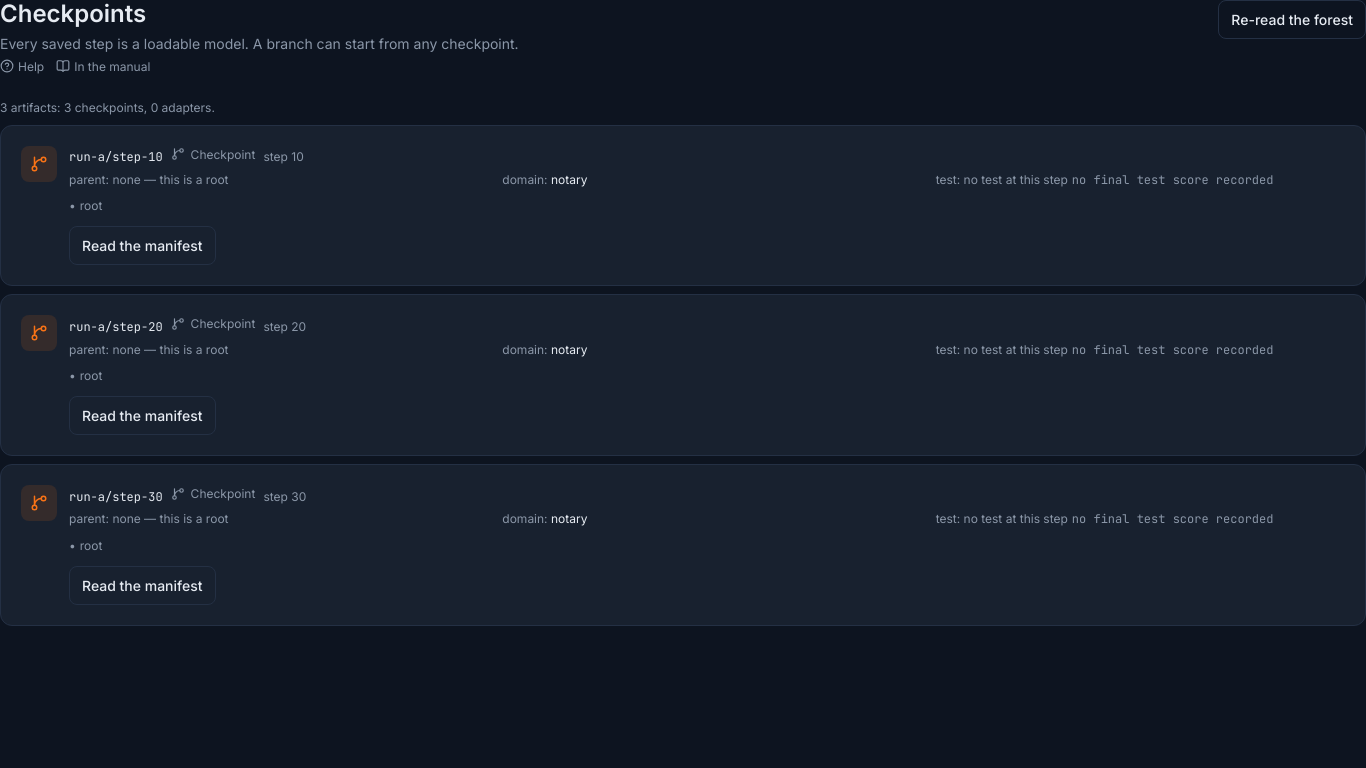
[CheckpointTreePage] manifest placement › should close the manifest on a second click and drop it from the URL
Click the button "Read the manifest" below "run-a/step-20": (142, 416) [69,396,216,435]
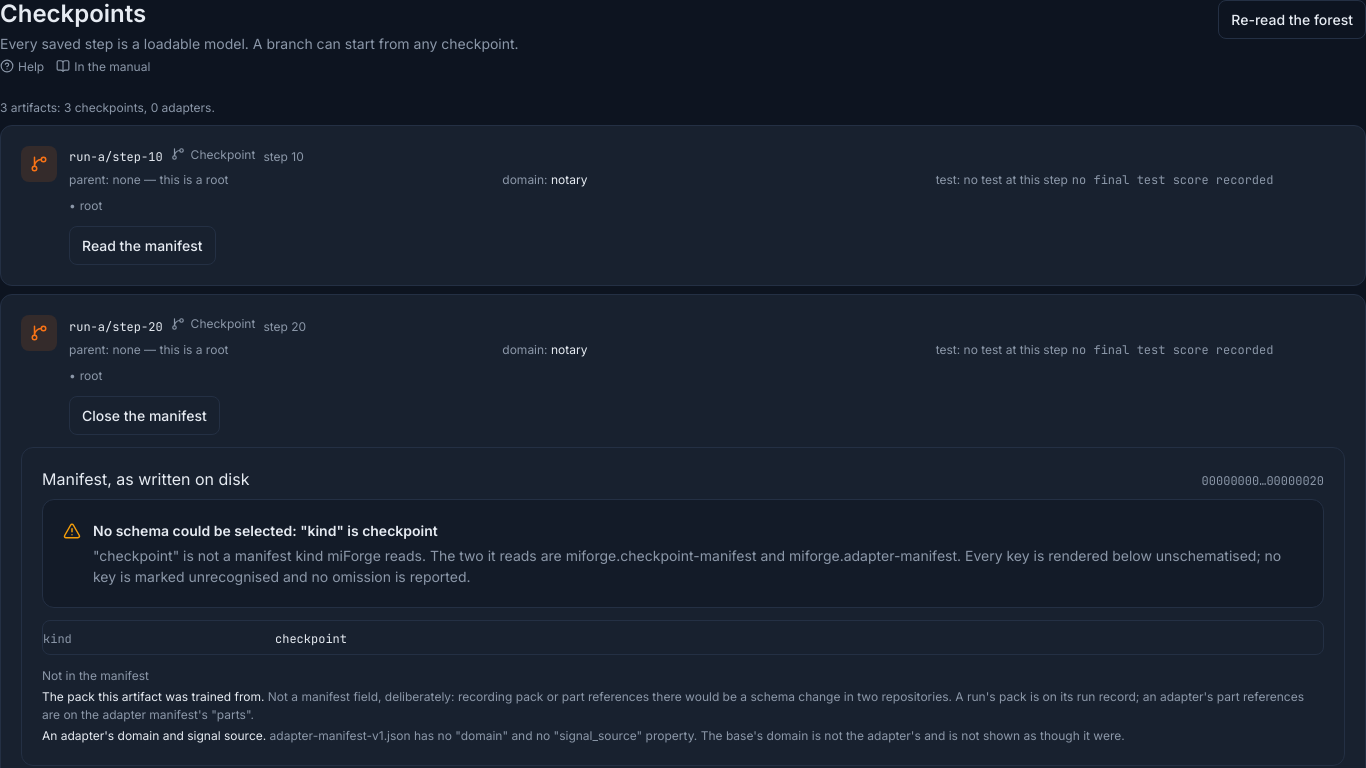
Click the button "Close the manifest": (144, 416) [69,396,220,435]
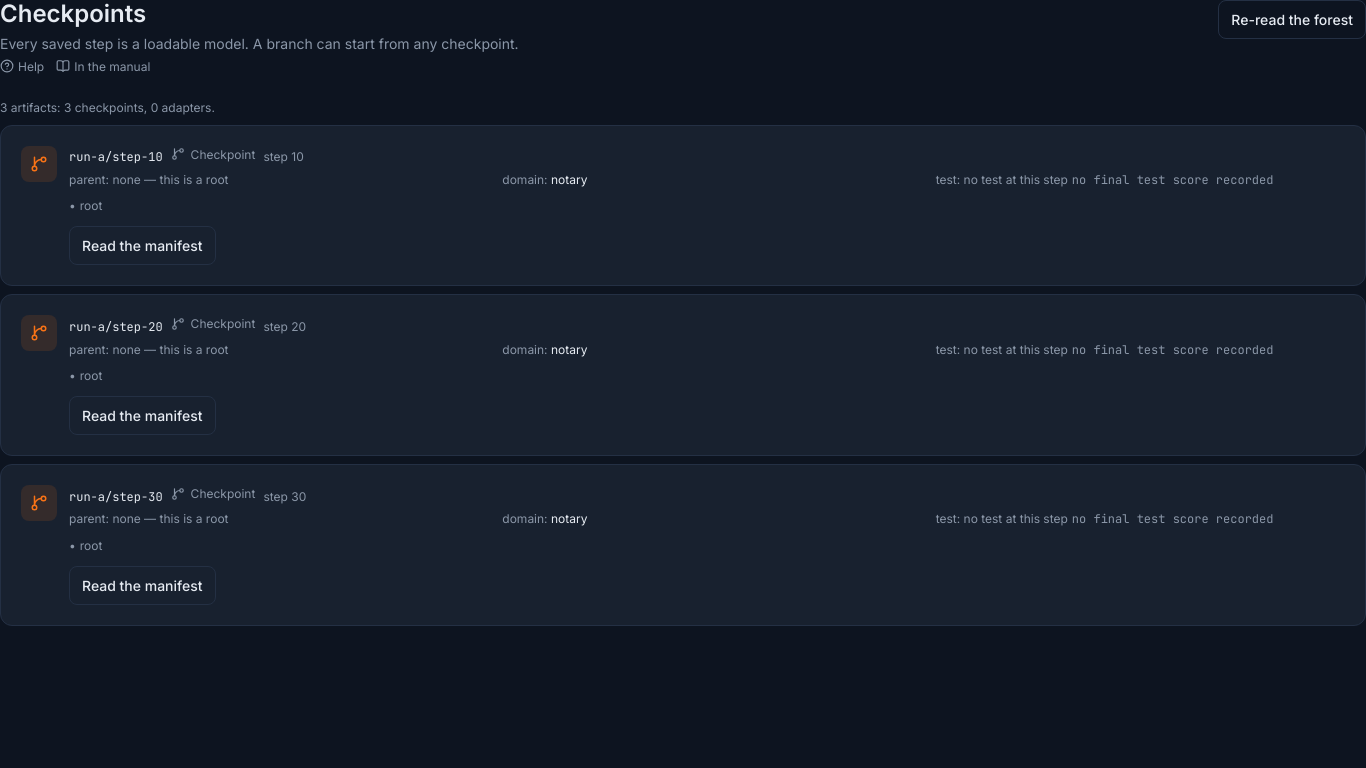
Now the element with test id "tree-manifest" is gone
